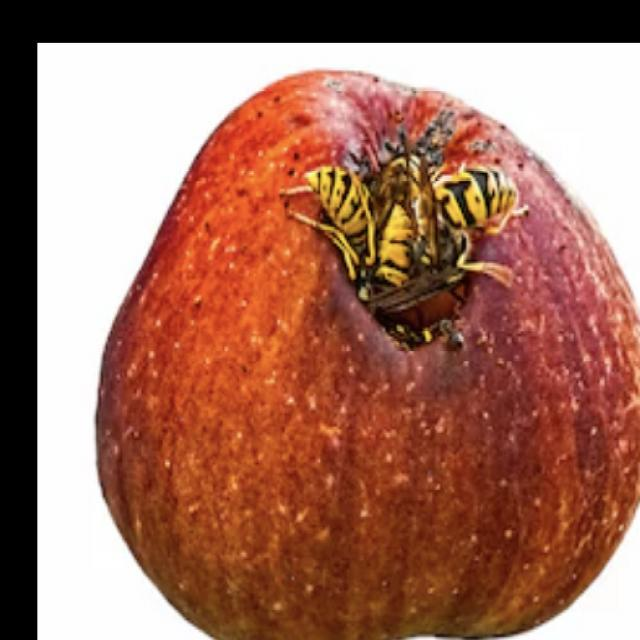Rotten: (86, 70, 640, 640)
